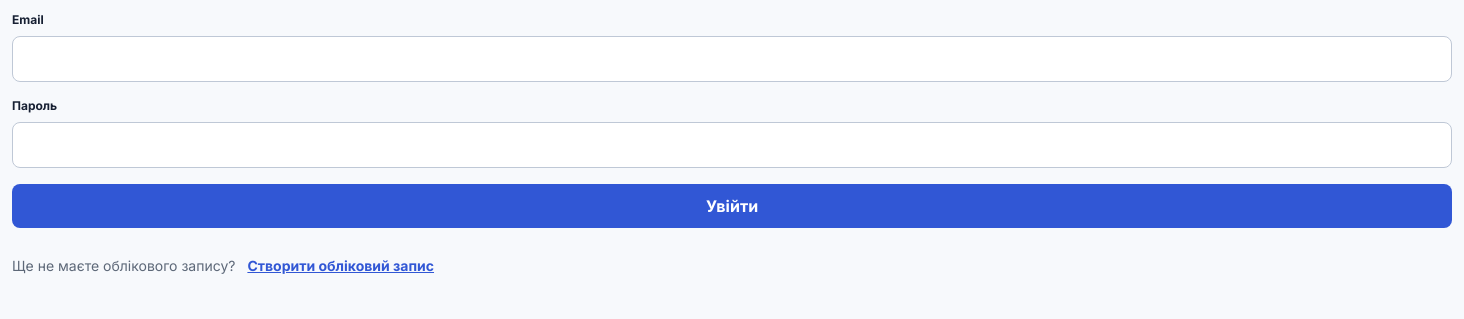
Test case: LoginForm › associates server validation errors with the affected login field
In the field labelled "Email": (732, 59) x1=12 y1=36 x2=1452 y2=82, type "invalid"
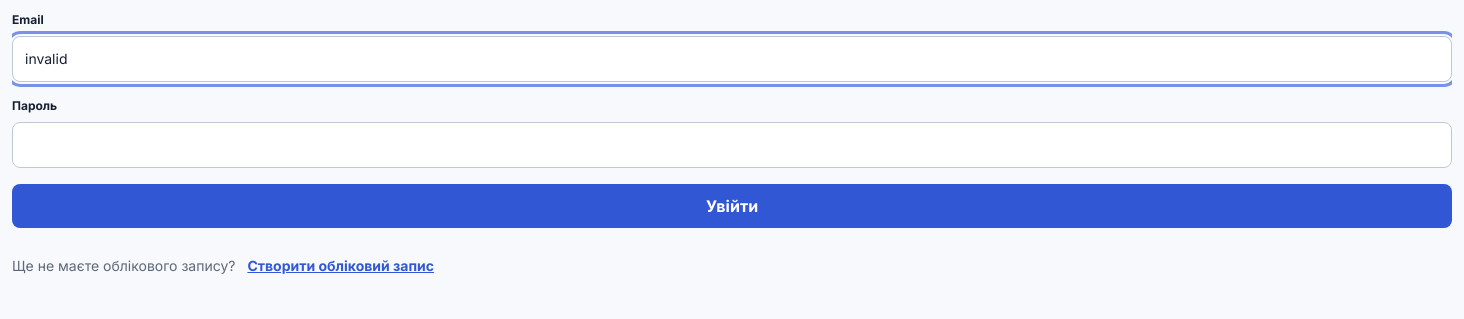
In the password field labelled "Пароль": (732, 145) x1=12 y1=122 x2=1452 y2=168, type "secret-password"
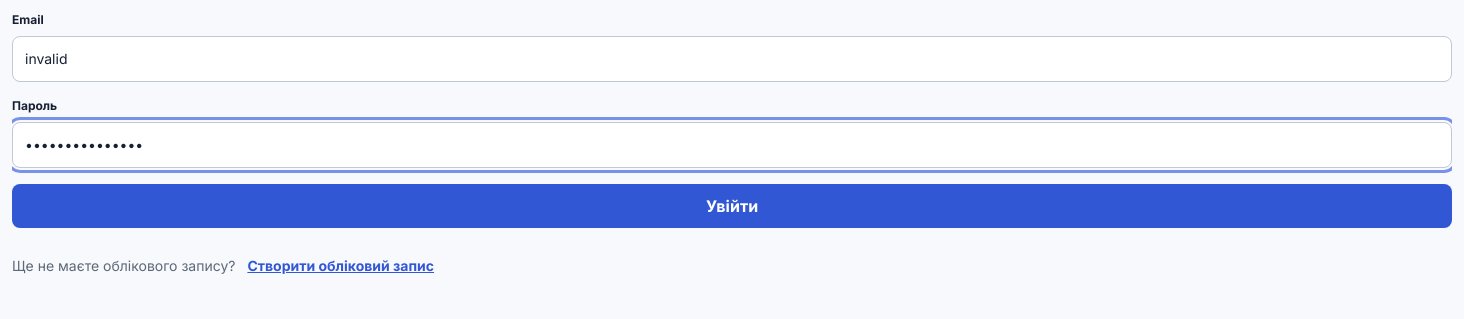
Click the button "Увійти": (732, 206) x1=12 y1=184 x2=1452 y2=228
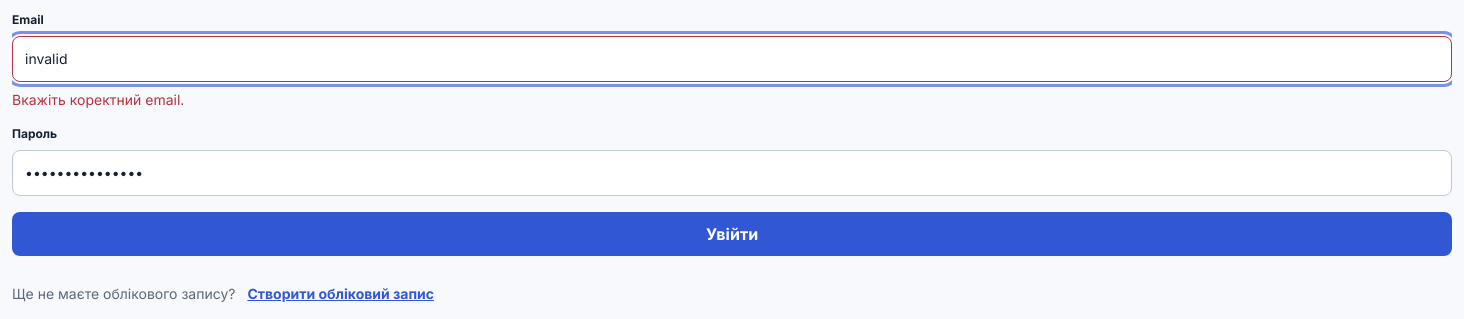
Now the text "Вкажіть коректний email." is shown, box x1=12 y1=91 x2=184 y2=108
